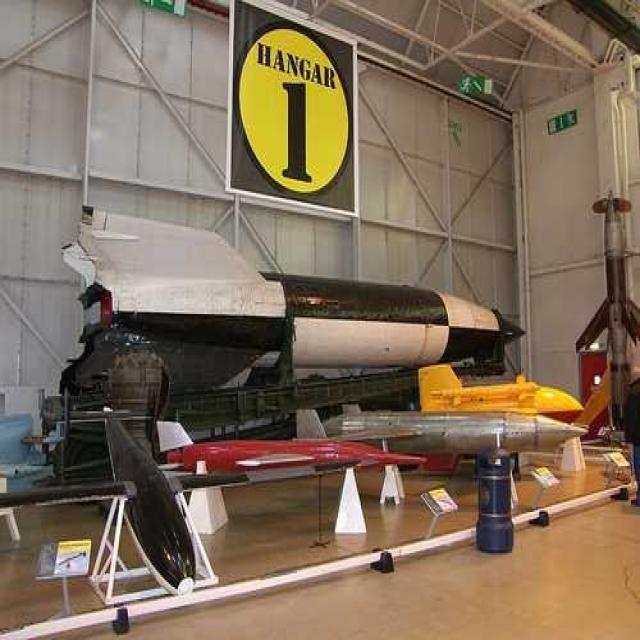missile: (75, 228, 531, 365), (154, 430, 428, 474), (320, 413, 596, 456), (415, 368, 588, 418)
